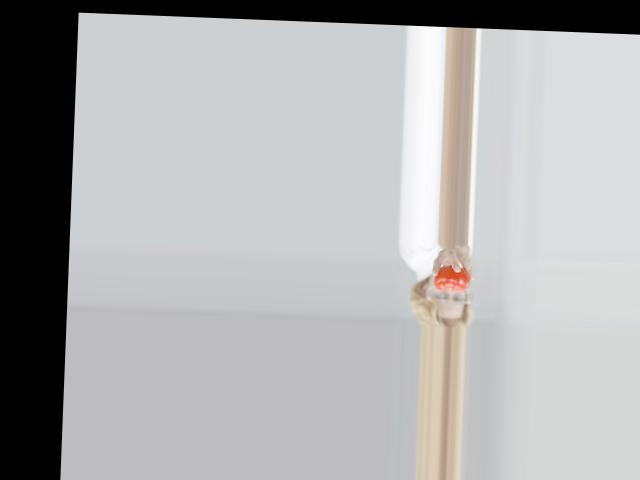tomato: (432, 264, 469, 290)
